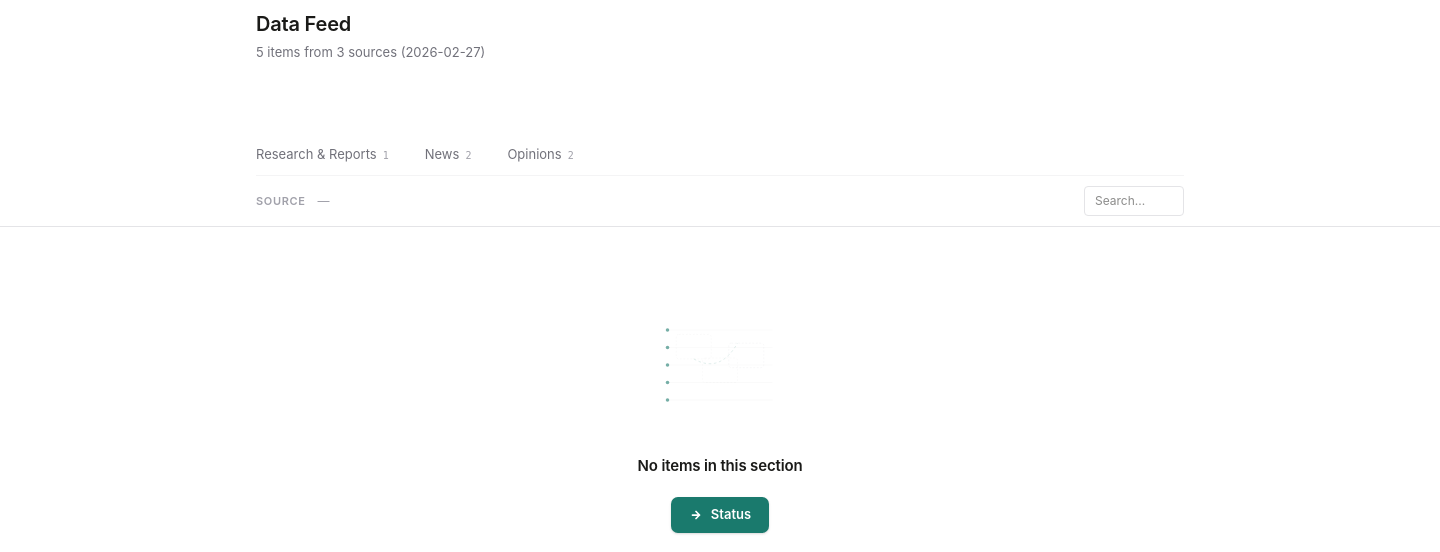
Test: Data - group-based tabs › uses account name as filter key for groups with rss_news
Click the button "News2": (448, 155) x1=409 y1=134 x2=487 y2=176
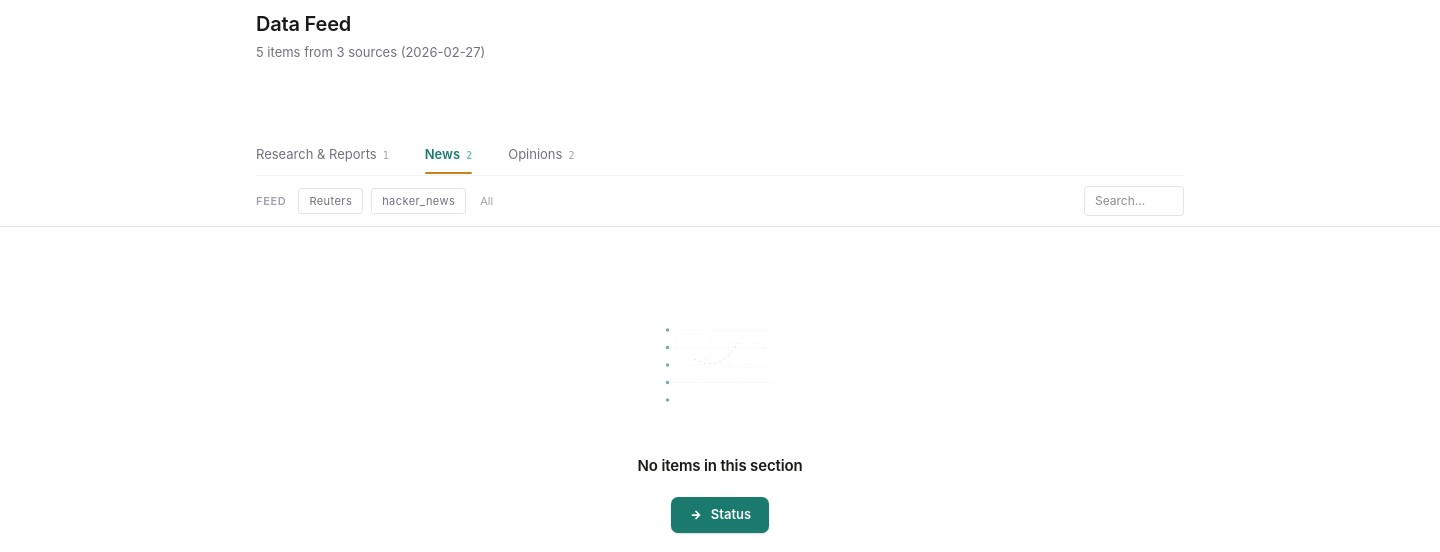
expect the button "Reuters" is shown: met, box x1=298 y1=188 x2=363 y2=214
